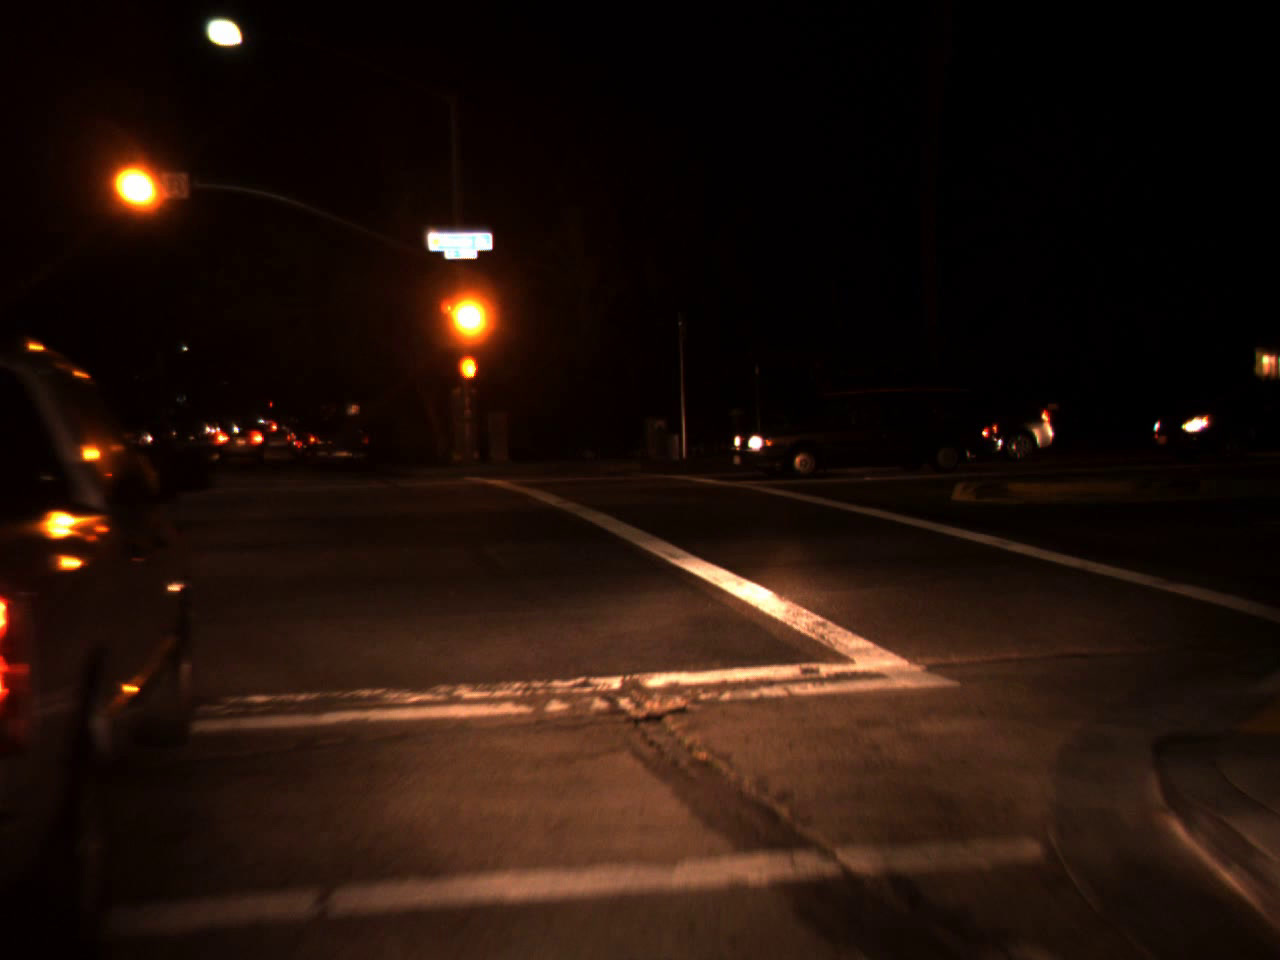warning: (119, 157, 153, 214), (453, 287, 486, 344)
